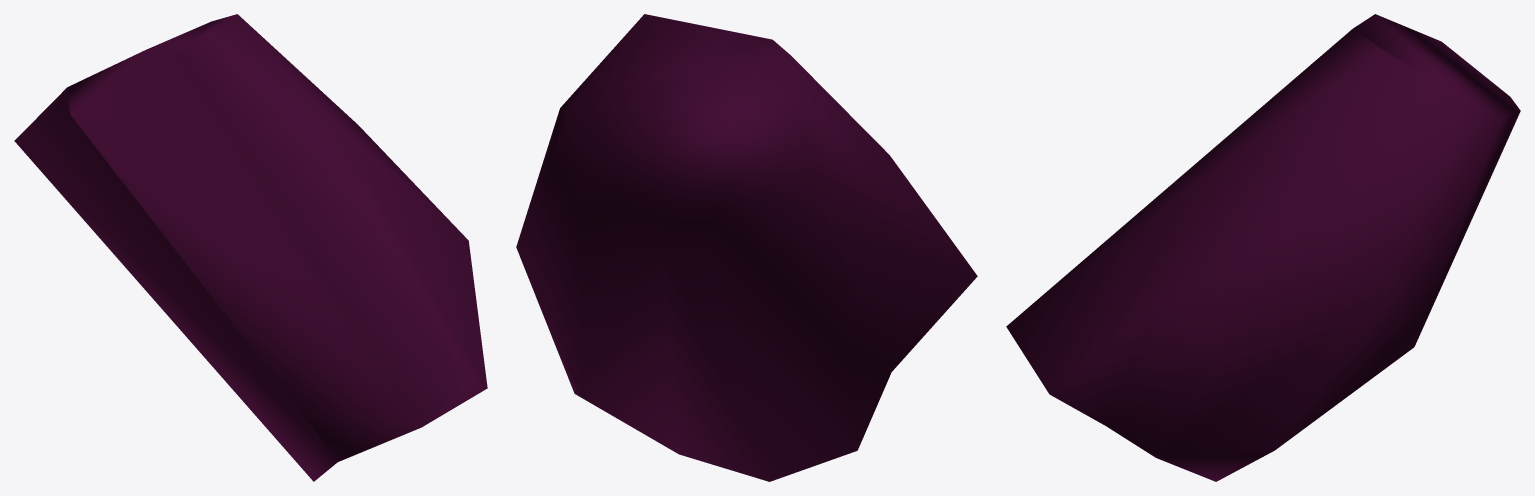
The picture shows the model from 3 angles, left to right: view 1: azimuth 30°, elevation 25°; view 2: azimuth 150°, elevation 25°; view 3: azimuth 270°, elevation 25°; orthographic projection. The views are drawn at different scales.
Size of the model in its own units: 0.1738 by 0.2036 by 0.2334.
